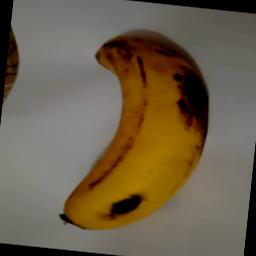Banana Unripe: (58, 28, 219, 242)
